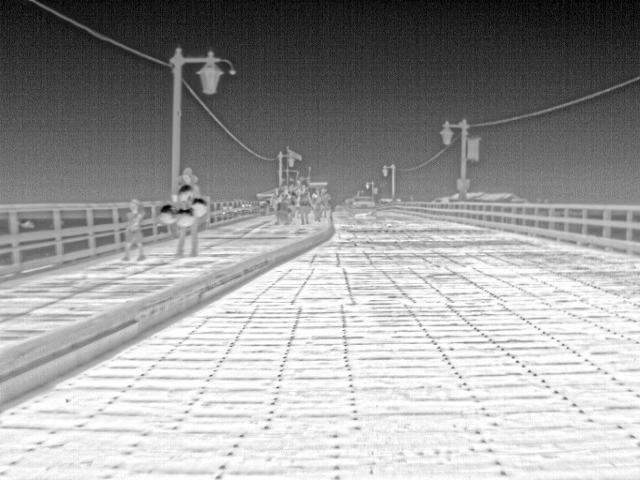car: (351, 193, 379, 219)
person: (174, 169, 207, 258), (122, 198, 145, 262), (298, 184, 316, 224), (275, 186, 297, 218), (311, 189, 325, 223), (323, 186, 332, 218)
